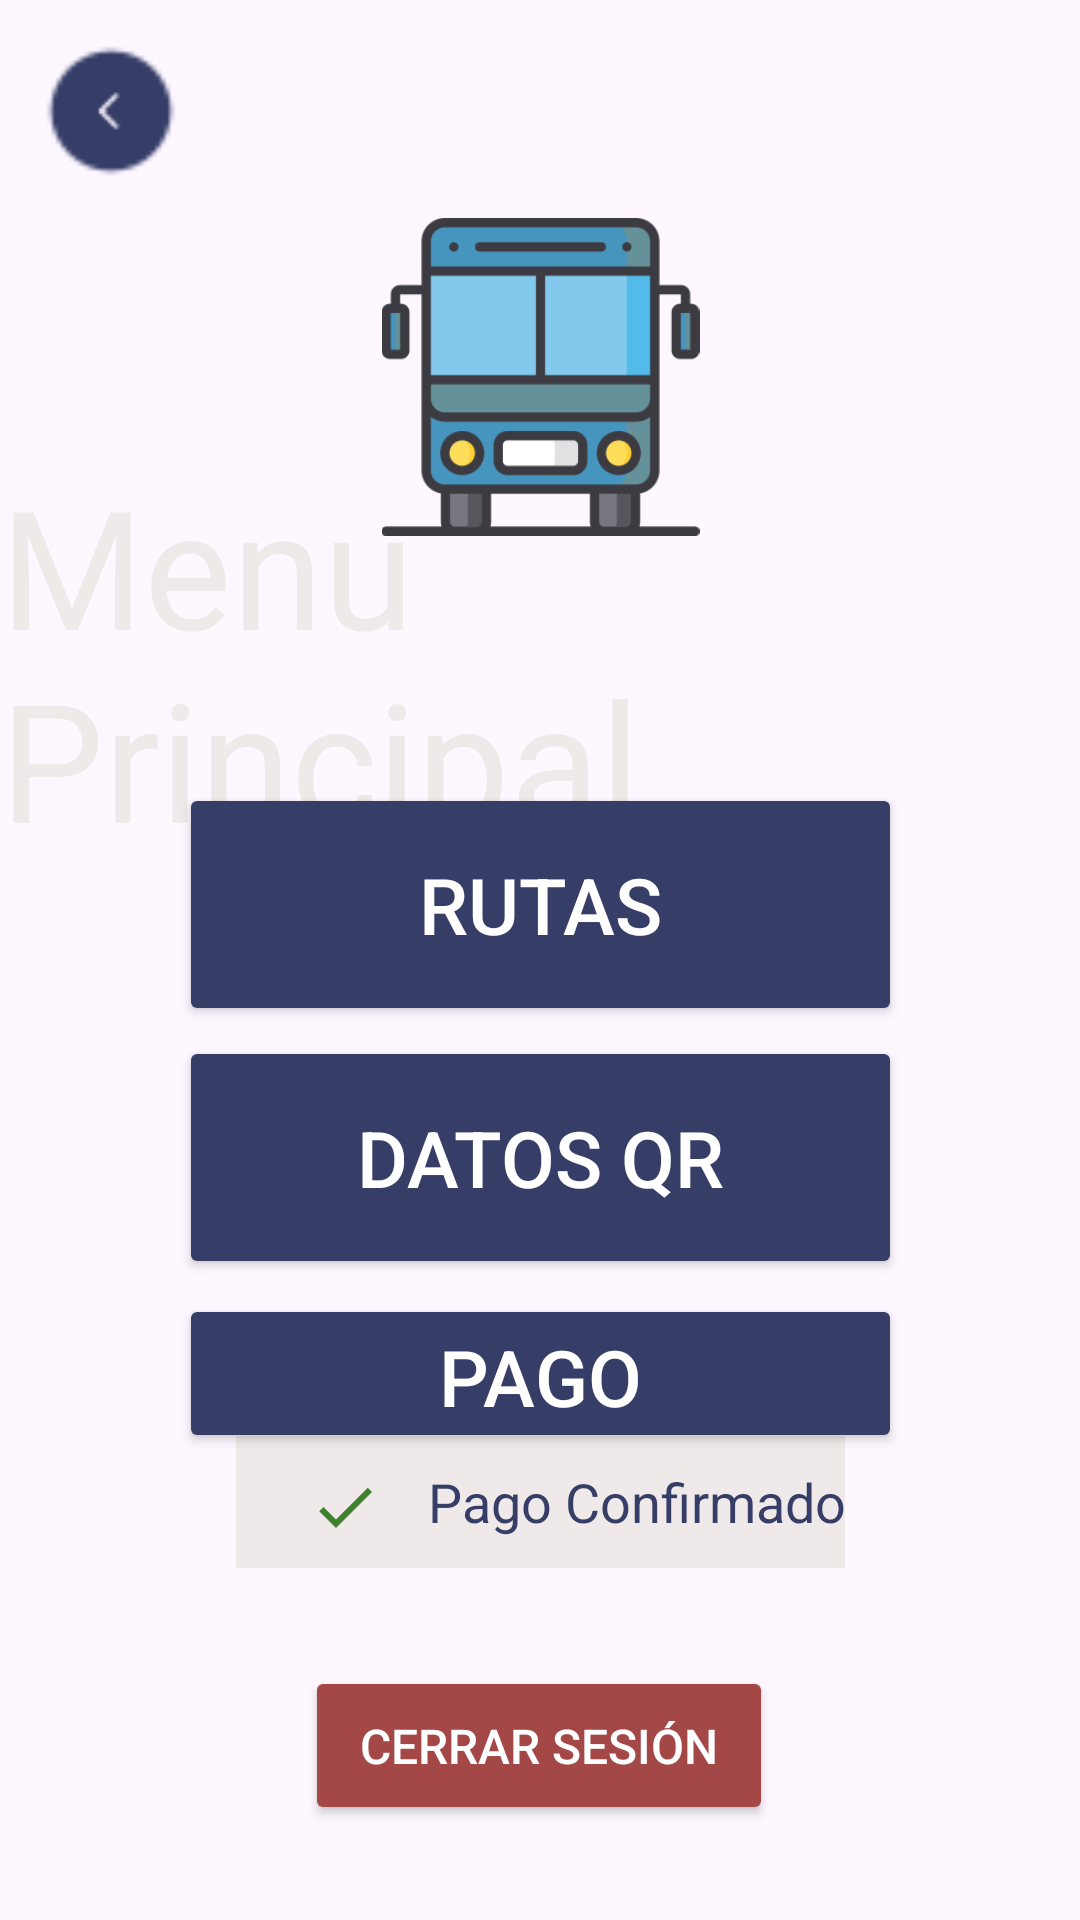

Icon bounding boxes for this 1080 × 1920 phone screenshot, format (x1, y1, x2, y2):
check: (319, 1488, 372, 1528)
left: (48, 48, 174, 174)
transporte publico: (382, 218, 700, 536)
